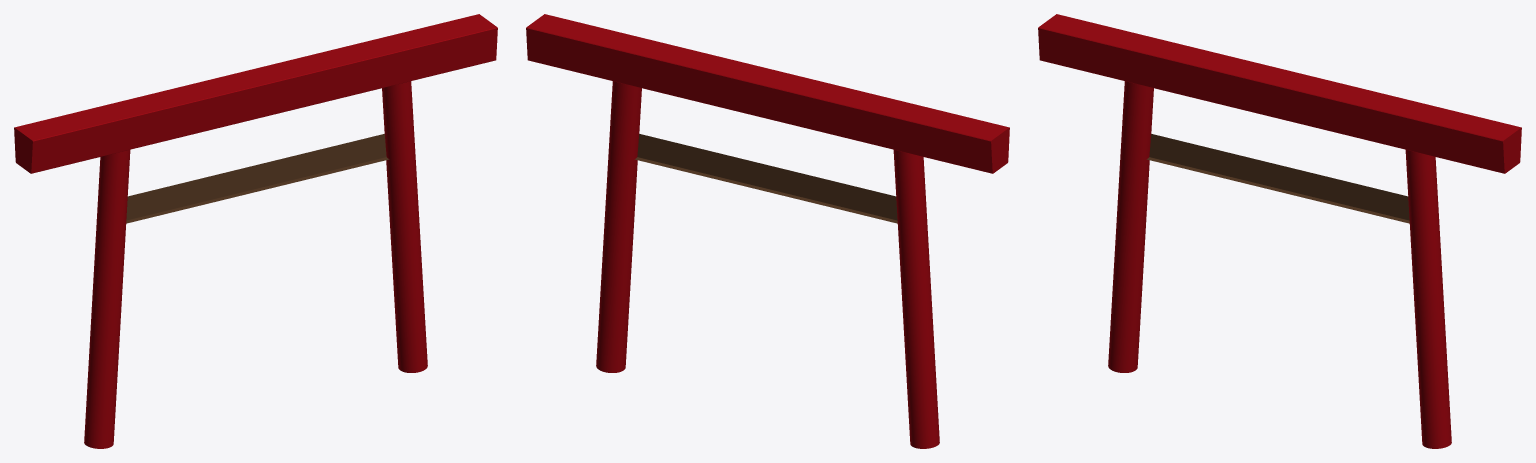
File: Shinmei_Angled_2.fbx
The picture shows the model from 3 angles, left to right: view 1: azimuth 30°, elevation 25°; view 2: azimuth 150°, elevation 25°; view 3: azimuth 330°, elevation 25°; orthographic projection.
Parts seen in each view (by area): view 1: Cube.008; view 2: Cube.008; view 3: Cube.008.
Boxes of the visible parts, bbox=[...] form: Cube.008: bbox=[14, 14, 497, 448]; Cube.008: bbox=[526, 14, 1009, 448]; Cube.008: bbox=[1038, 14, 1521, 448].
Bounding box in the file's own units: 564 × 380 × 39.61.
